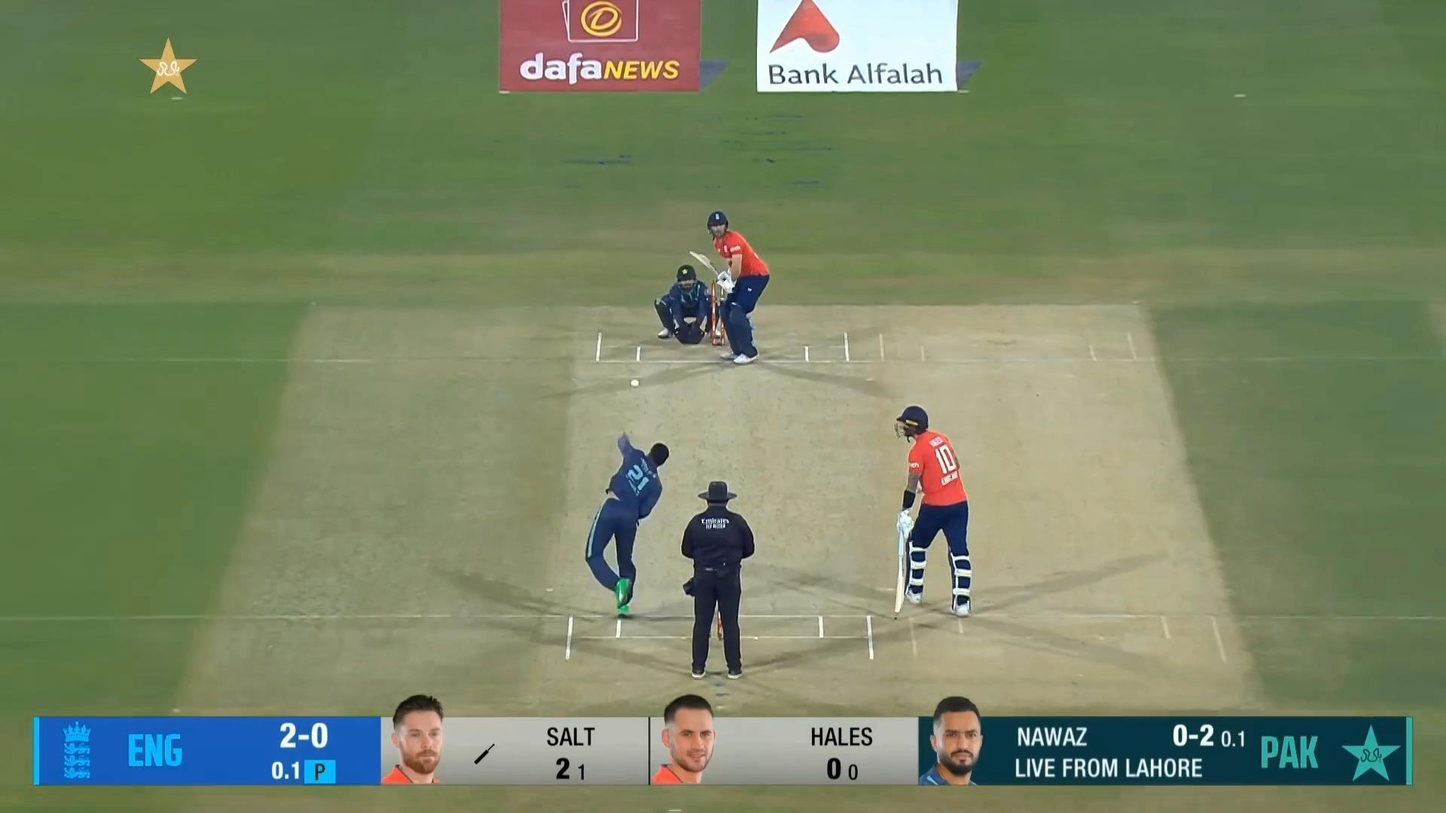BM 1: (689, 210, 771, 365)
BO: (584, 427, 670, 618)
